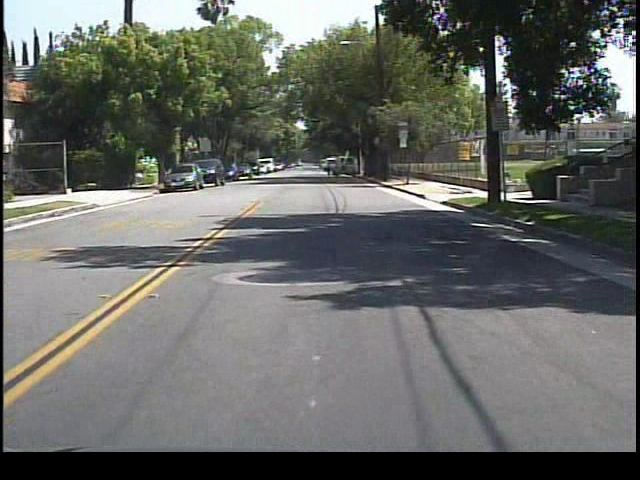person: (321, 157, 336, 183)
